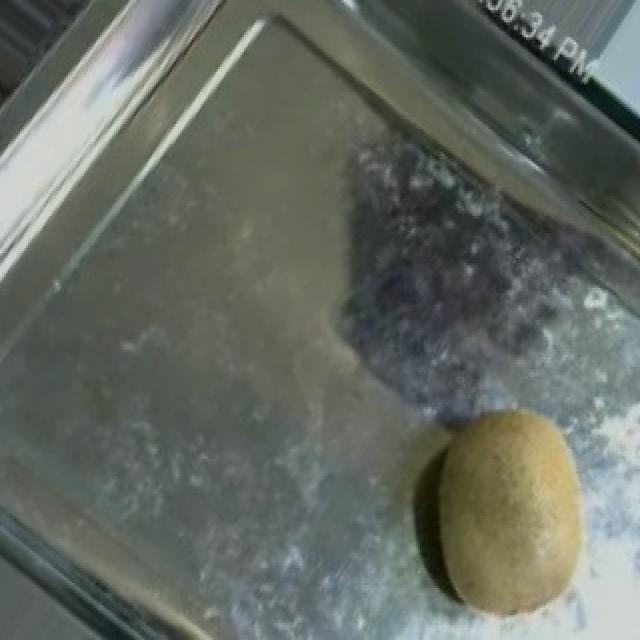Fruit: (402, 387, 608, 640)
